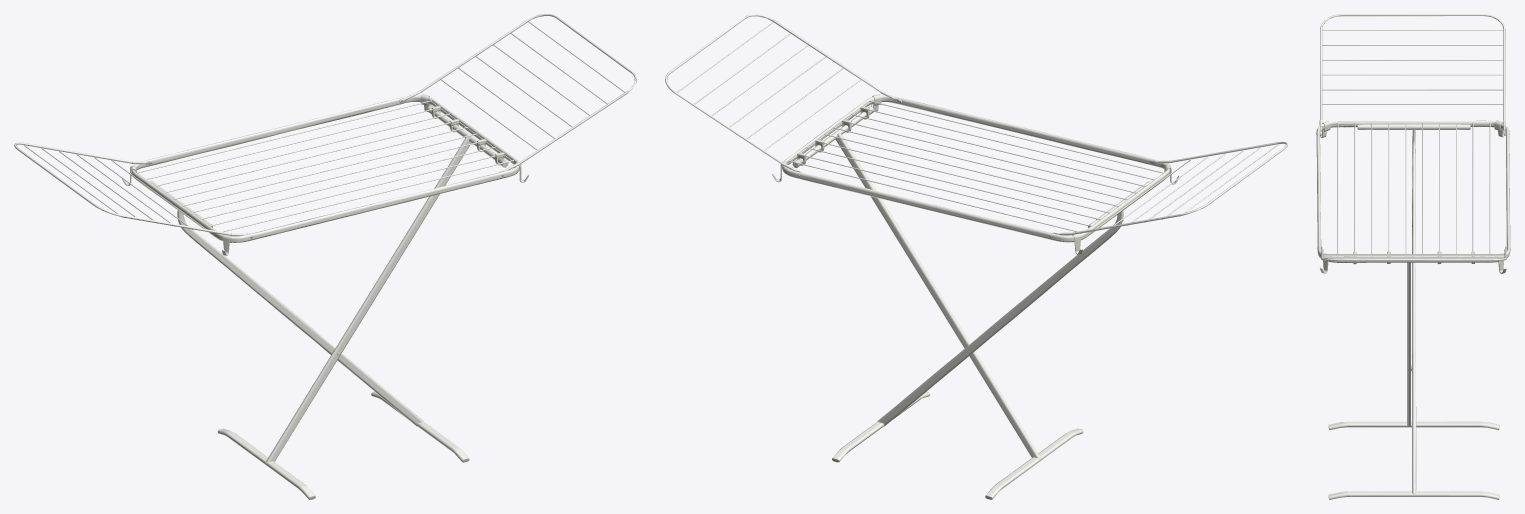
The model's file is mulig_suszarka_na_pranie_50228755.glb.
The picture shows the model from 3 angles, left to right: view 1: azimuth 30°, elevation 25°; view 2: azimuth 150°, elevation 25°; view 3: azimuth 270°, elevation 25°; orthographic projection. The views are drawn at different scales.
Parts seen in each view (by area): view 1: mulig_suszarka_na_pranie_50228755; view 2: mulig_suszarka_na_pranie_50228755; view 3: mulig_suszarka_na_pranie_50228755.
Part boxes in pixels (<box>): mulig_suszarka_na_pranie_50228755: <box>14,14,636,499</box>; mulig_suszarka_na_pranie_50228755: <box>665,14,1287,499</box>; mulig_suszarka_na_pranie_50228755: <box>1316,14,1510,499</box>.
Size of the model in its own units: 1.72 by 1.04 by 0.5758.
Materials: 1 (1 with a texture image).
